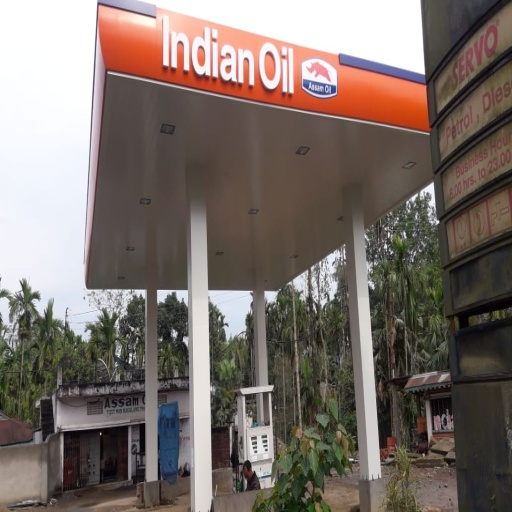roof: (83, 1, 444, 298)
